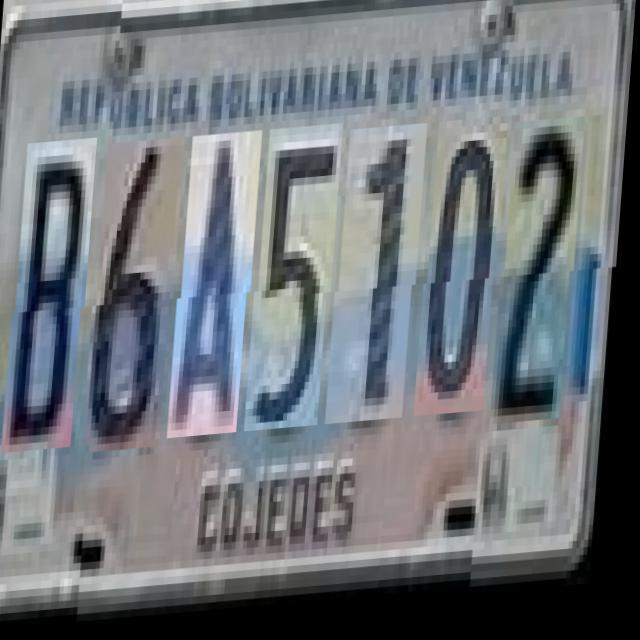1: (336, 131, 430, 431)
2: (502, 120, 588, 426)
5: (254, 130, 346, 437)
6: (92, 141, 188, 455)
A: (178, 136, 264, 442)
B: (12, 147, 99, 461)
O: (424, 126, 512, 424)
